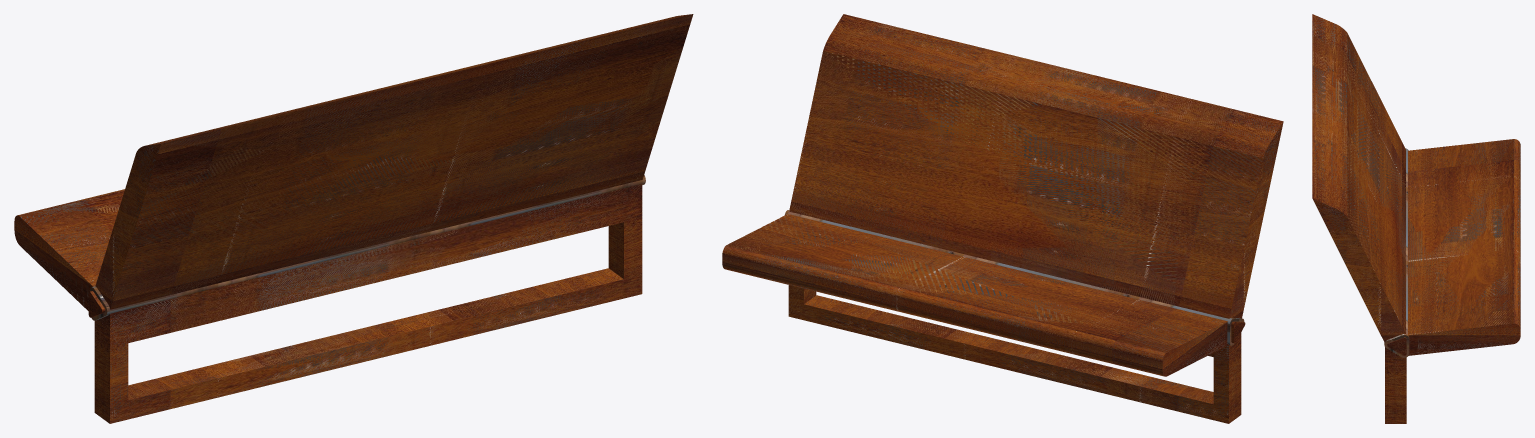
3 views of the same model, side by side, from view 1: azimuth 30°, elevation 25°; view 2: azimuth 150°, elevation 25°; view 3: azimuth 270°, elevation 25° (orthographic). The views are drawn at different scales.
Parts seen in each view (by area): view 1: mesh1_mesh1-geometry; view 2: mesh1_mesh1-geometry; view 3: mesh1_mesh1-geometry.
Boxes of the visible parts, x1,y1,x2,y2 form: mesh1_mesh1-geometry: (14, 14, 693, 423); mesh1_mesh1-geometry: (722, 14, 1283, 423); mesh1_mesh1-geometry: (1312, 14, 1520, 423).
Bounding box in the file's own units: 0.8084 × 0.4514 × 0.3777.
